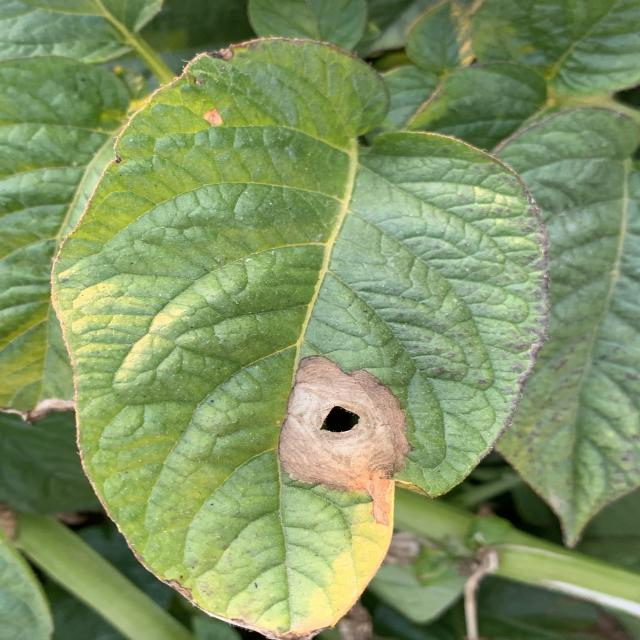lateblight: (278, 356, 412, 491)
